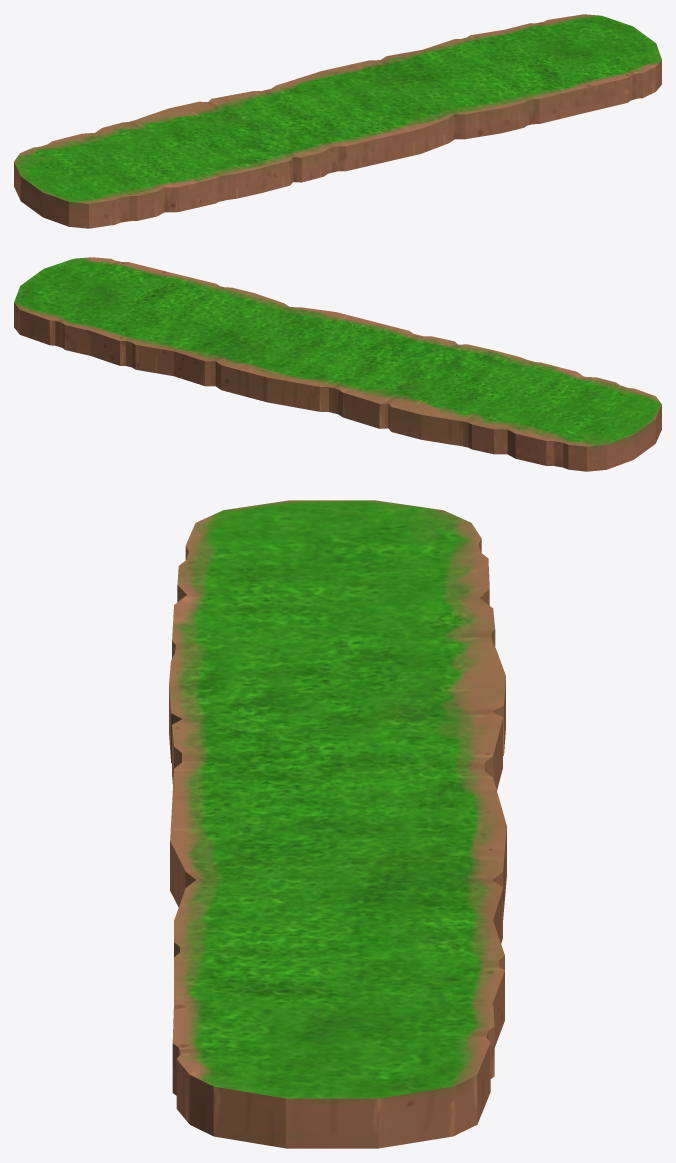
File: ground_01.fbx
3 views of the same model, one above another, from view 1: azimuth 30°, elevation 25°; view 2: azimuth 150°, elevation 25°; view 3: azimuth 270°, elevation 25° (orthographic). The views are drawn at different scales.
Visible parts, largest first — view 1: ground_01; view 2: ground_01; view 3: ground_01.
Boxes of the visible parts, bbox=[...] form: ground_01: bbox=[14, 14, 661, 228]; ground_01: bbox=[14, 257, 661, 471]; ground_01: bbox=[169, 500, 506, 1148].
Bounding box in the file's own units: 8.97 × 2.14 × 0.3499.
